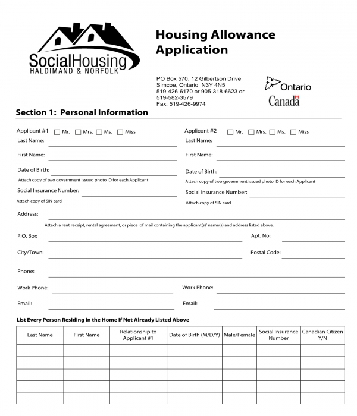textbox: (108, 352, 169, 373), (163, 365, 225, 384), (164, 353, 224, 372), (165, 377, 224, 396), (108, 378, 169, 396), (61, 341, 115, 360), (108, 342, 168, 359), (106, 389, 169, 405), (165, 342, 224, 359), (62, 353, 112, 373), (107, 367, 169, 383), (164, 390, 225, 406), (15, 377, 66, 396), (254, 354, 303, 373), (15, 366, 66, 384), (61, 377, 112, 395), (253, 365, 303, 383), (254, 378, 304, 396), (15, 355, 67, 372), (61, 366, 112, 383), (298, 365, 346, 383), (297, 378, 347, 395), (62, 389, 112, 406), (253, 342, 302, 359), (298, 341, 347, 358), (299, 354, 347, 371), (298, 389, 346, 406), (15, 342, 65, 358), (219, 365, 259, 385), (255, 390, 302, 407), (219, 341, 260, 360), (14, 390, 65, 405), (220, 354, 259, 371), (220, 379, 259, 396), (220, 390, 259, 406)
textline: (46, 206, 347, 222), (46, 266, 347, 281), (47, 229, 243, 244), (46, 248, 244, 261), (49, 162, 181, 178), (213, 299, 347, 314), (214, 134, 345, 149), (45, 135, 178, 149), (218, 165, 347, 179), (49, 283, 175, 297), (46, 150, 181, 163), (45, 301, 178, 314), (214, 150, 346, 163), (216, 285, 345, 295), (80, 186, 178, 199), (248, 188, 346, 200), (277, 229, 348, 244), (281, 249, 345, 261)
